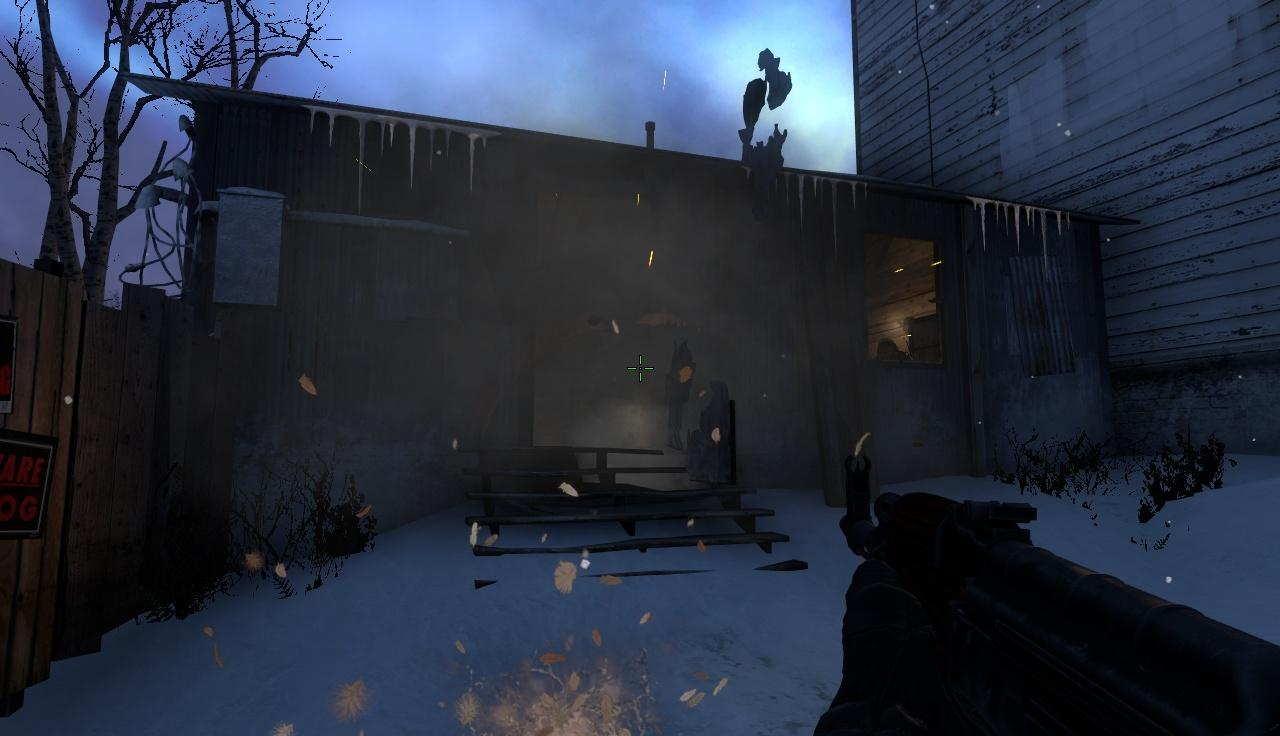cthead: (874, 338, 901, 359)
rifle: (830, 450, 1280, 736)
